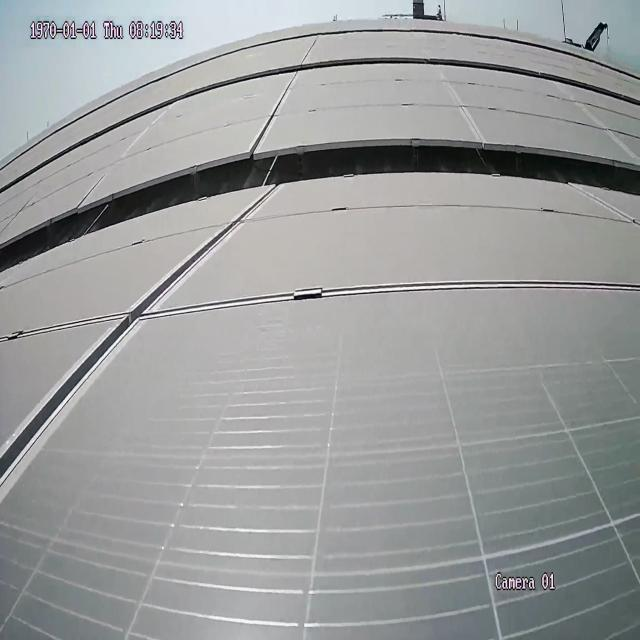interior panel: (0, 198, 276, 484), (252, 76, 301, 140), (437, 69, 485, 133)
outher panel: (3, 132, 640, 271)
